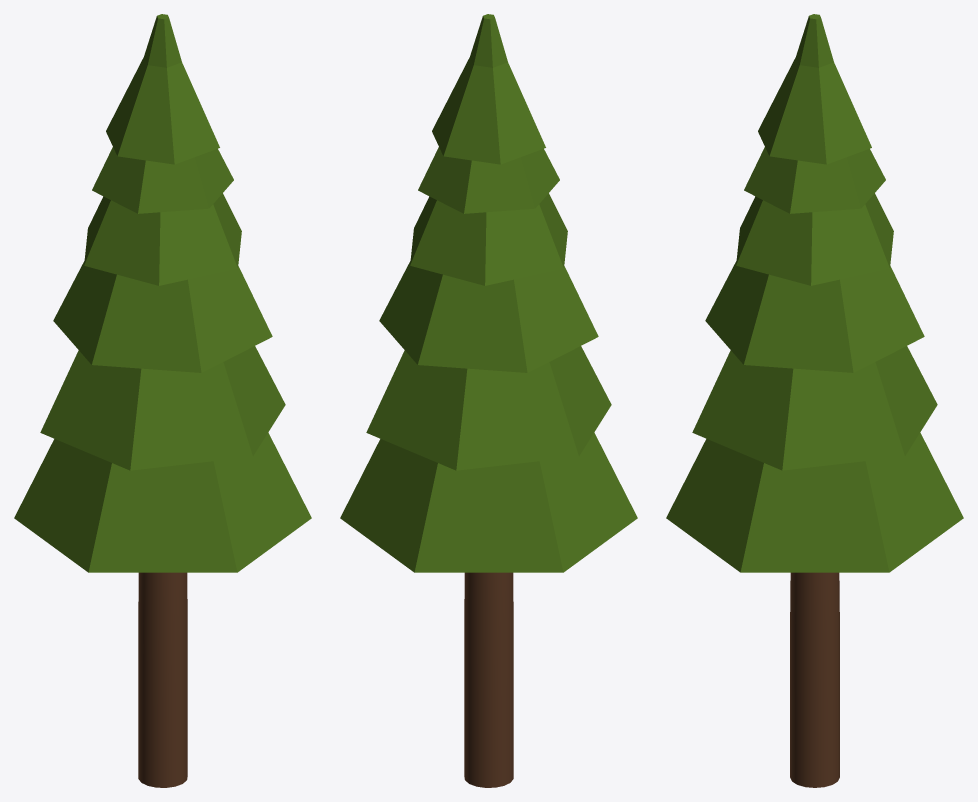
The model's file is Tree_Tall_2_NoSnow.fbx.
3 renders of one model, left to right at view 1: azimuth 30°, elevation 25°; view 2: azimuth 150°, elevation 25°; view 3: azimuth 270°, elevation 25°, orthographic.
Visible parts, largest first — view 1: Tree_Tall_2_NoSnow; view 2: Tree_Tall_2_NoSnow; view 3: Tree_Tall_2_NoSnow.
Part boxes in pixels (x1,y1,x2,y2): Tree_Tall_2_NoSnow: (14,14,311,787); Tree_Tall_2_NoSnow: (340,14,637,787); Tree_Tall_2_NoSnow: (666,14,963,787).
Bounding box in the file's own units: 369 × 1199 × 426.
